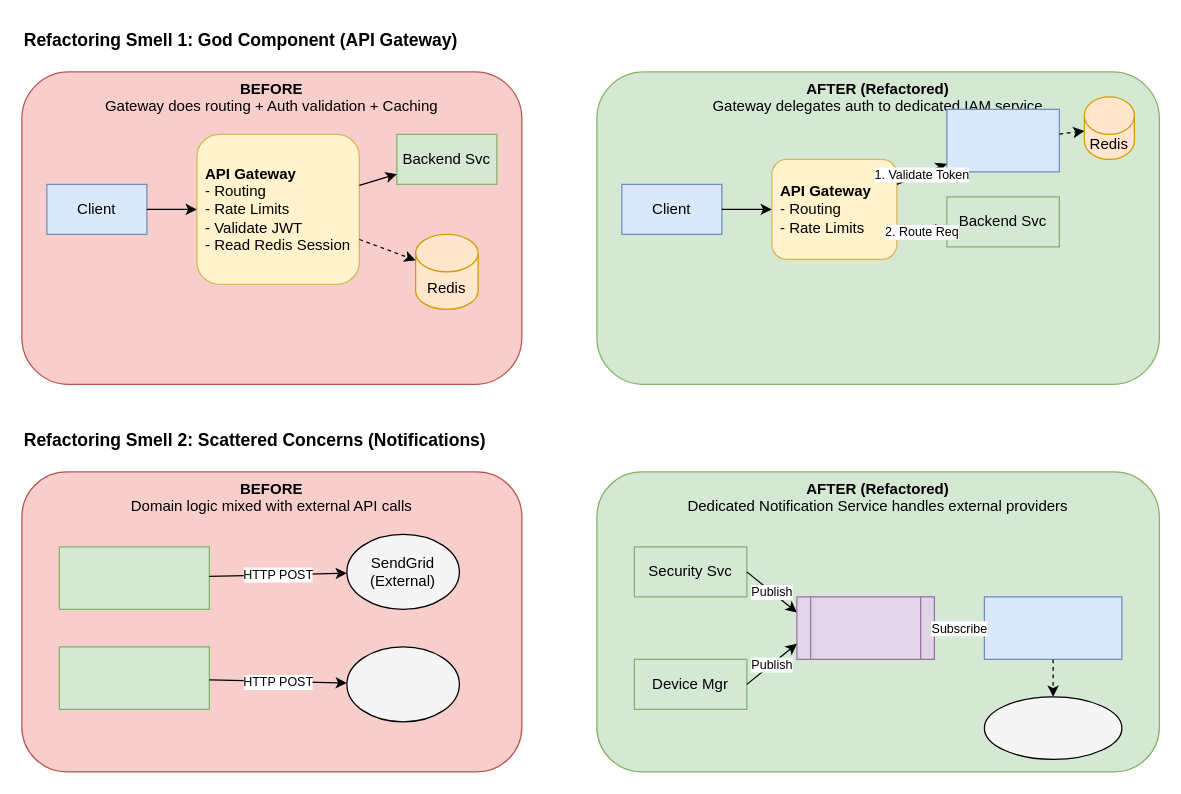
The diagram is 1181 pixels wide and 794 high, and some of its shapes have lost their labels. The centre of each missing label's shape, as x and y in pixels:
Device Mgr (+ Twilio API): (133,677)
External APIs (SendGrid/Twilio): (1052,727)
IAM Service - Auth Logic: (1002,140)
Message Broker: (865,627)
Notification Svc: (1052,627)
Security Svc (+ SendGrid API): (133,577)
Twilio (External): (402,684)
